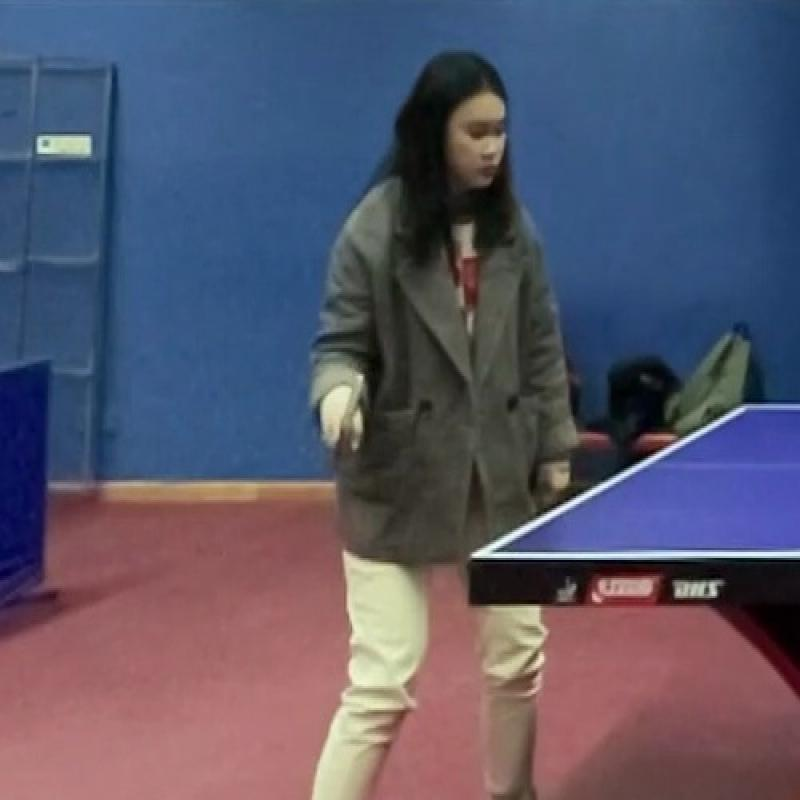bats: (294, 357, 387, 476)
